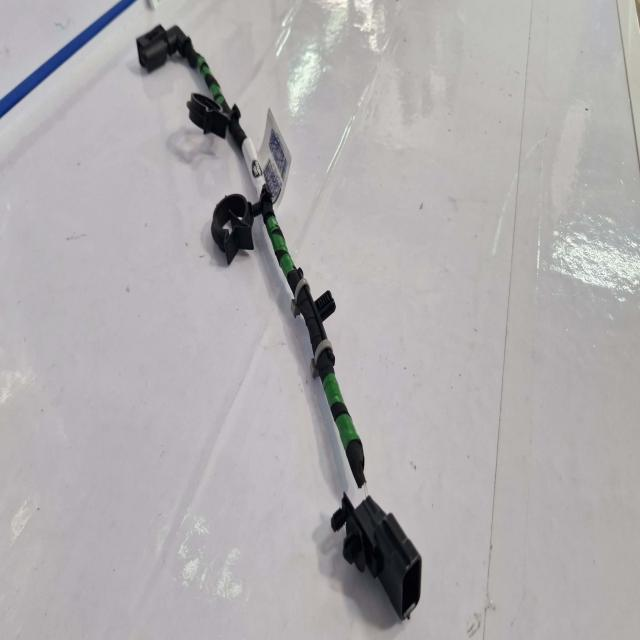AJ20_D6_Cable: (140, 31, 369, 486)
Clip: (187, 92, 244, 145), (212, 195, 255, 264)
Connector: (332, 495, 422, 620), (138, 26, 192, 72)
Info: (247, 111, 292, 209)
